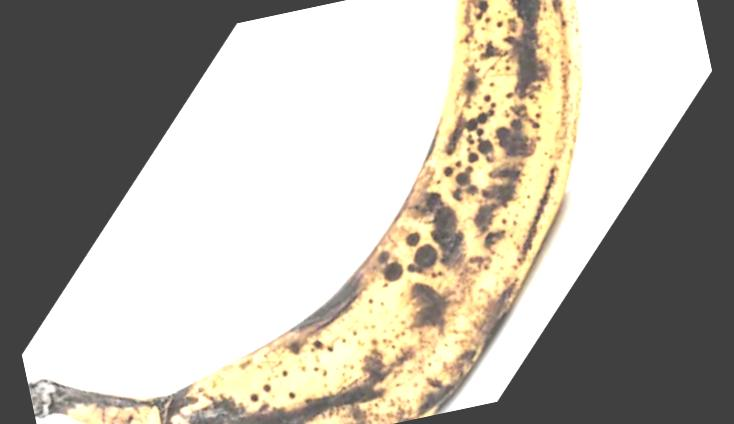Banana Overripe: (0, 111, 660, 424)
